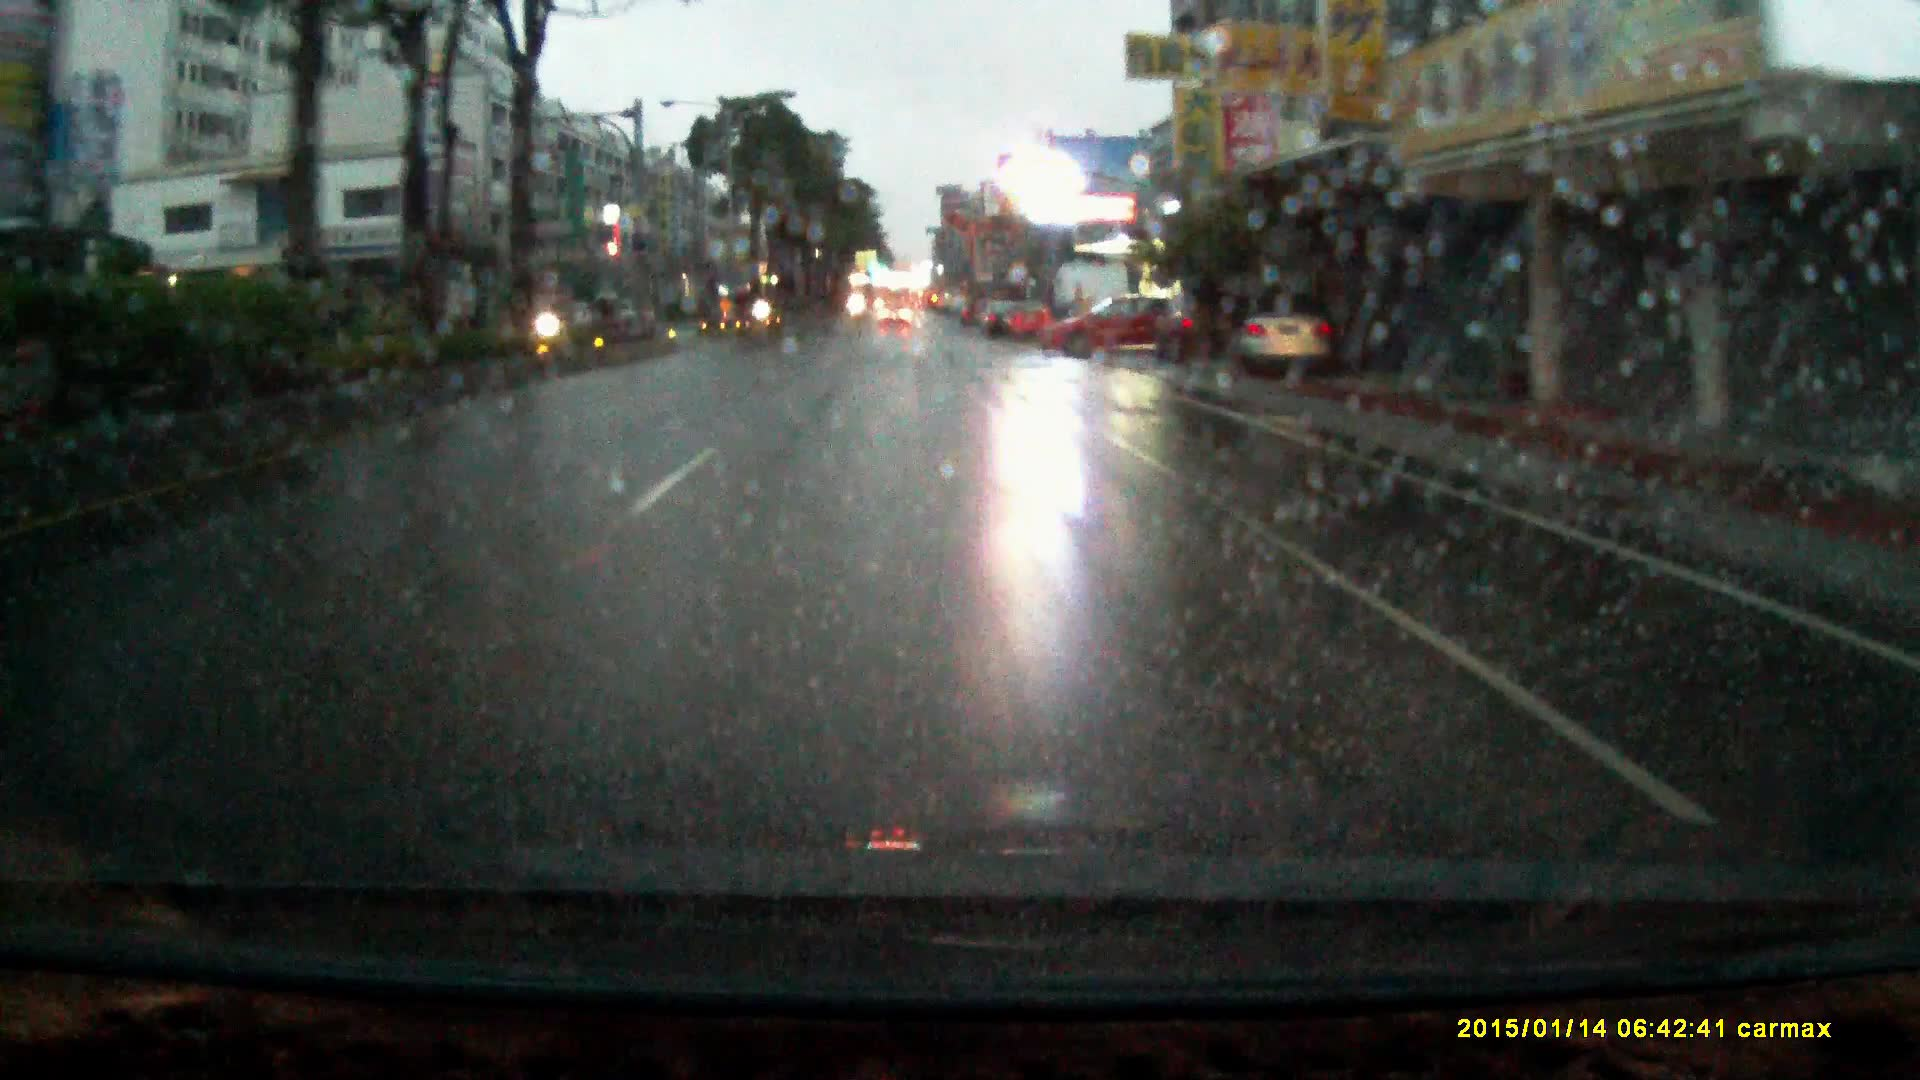vehicle: (1036, 293, 1187, 357), (1232, 293, 1338, 378), (1154, 285, 1247, 364), (505, 295, 582, 340), (1007, 298, 1054, 339), (978, 298, 1022, 338), (880, 301, 914, 328)
